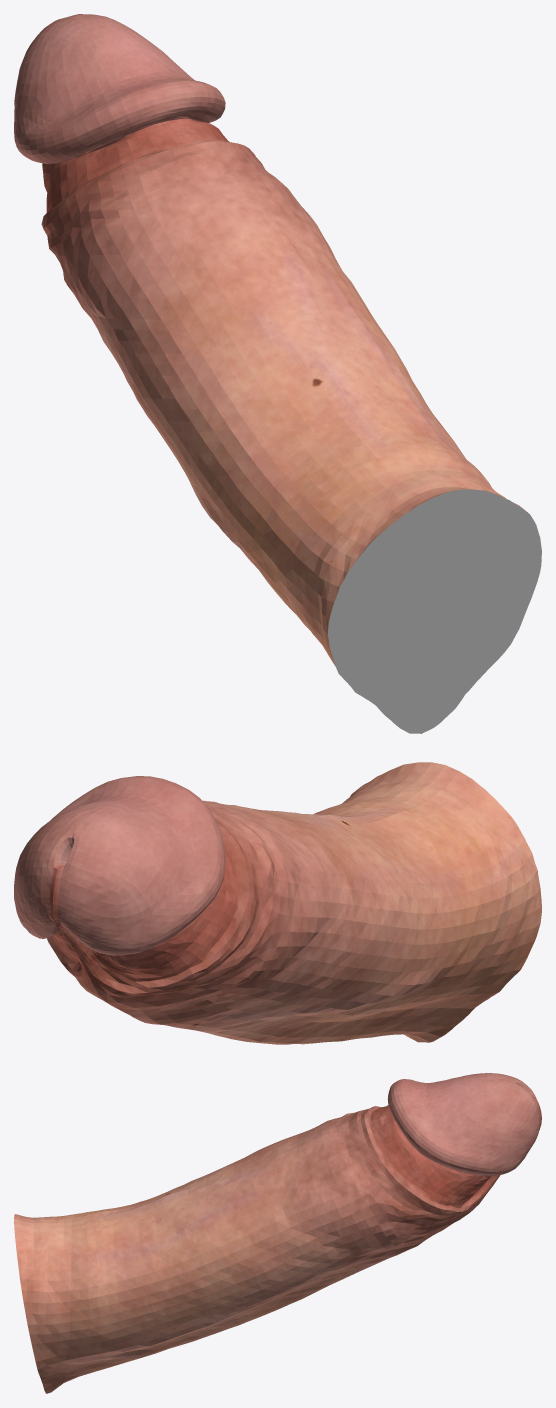
Rendered from piece.glb.
3 renders of one model, top to bottom at view 1: azimuth 30°, elevation 25°; view 2: azimuth 150°, elevation 25°; view 3: azimuth 270°, elevation 25°, orthographic. The views are drawn at different scales.
Bounding box in the file's own units: 0.1101 × 0.2226 × 0.3382.
Materials: 1 (1 with a texture image).
